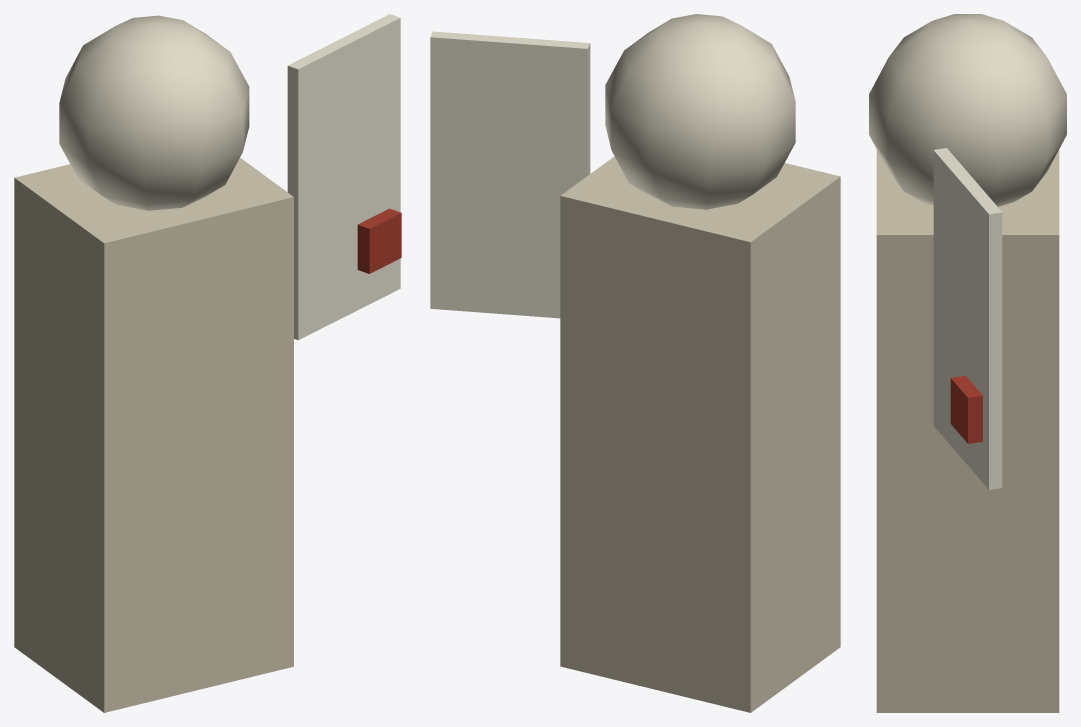
File: fu_xiu.glb
3 views of the same model, side by side, from view 1: azimuth 30°, elevation 25°; view 2: azimuth 150°, elevation 25°; view 3: azimuth 270°, elevation 25° (orthographic).
Parts seen in each view (by area): view 1: _MeshInstance3D_25, _MeshInstance3D_26, _MeshInstance3D_27, _MeshInstance3D_28; view 2: _MeshInstance3D_25, _MeshInstance3D_27, _MeshInstance3D_26; view 3: _MeshInstance3D_25, _MeshInstance3D_26, _MeshInstance3D_27, _MeshInstance3D_28.
Part boxes in pixels (x1,y1,x2,y2): _MeshInstance3D_25: (14,158,293,712); _MeshInstance3D_26: (59,15,249,210); _MeshInstance3D_27: (287,14,400,340); _MeshInstance3D_28: (357,208,401,273); _MeshInstance3D_25: (560,156,840,712); _MeshInstance3D_27: (430,31,590,318); _MeshInstance3D_26: (605,14,795,209); _MeshInstance3D_25: (876,149,1059,712); _MeshInstance3D_26: (869,14,1066,206); _MeshInstance3D_27: (933,148,1002,489); _MeshInstance3D_28: (950,375,982,443).
Bounding box in the file's own units: 0.4076 × 0.7 × 0.195.
